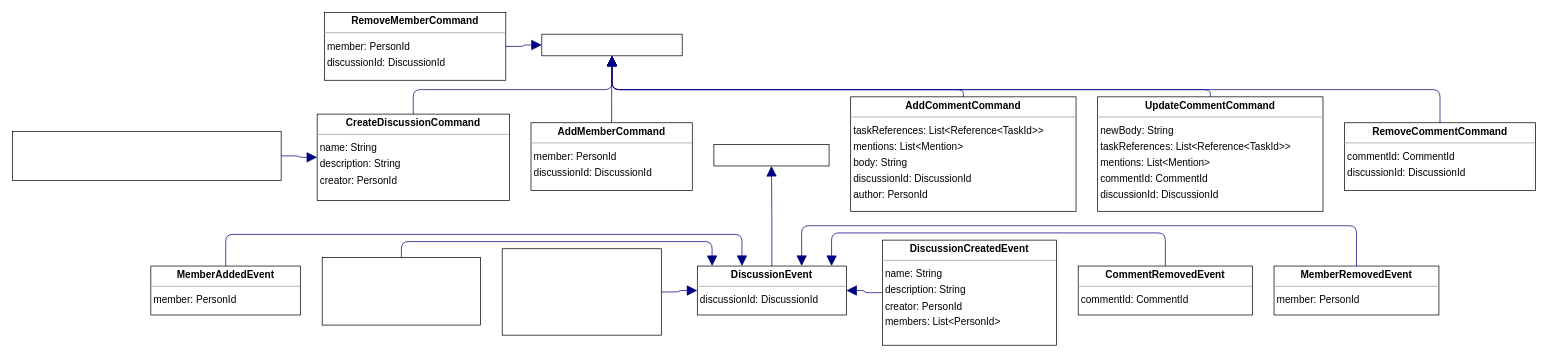
Some shapes in this 1548 by 358 pixel diagram are drawn without their labels. The shapes that lost their labels are listed below. From the top down, each one's box as (x1, y1, x2, y2) in pixels, then its label:
(541, 33, 682, 56): AbstractCommand
(12, 131, 281, 180): CreateDiscussionWithMembersCommand members: List<PersonId>
(713, 144, 829, 166): AbstractEvent
(321, 257, 481, 325): CommentEditedEvent newBody: String commentId: CommentId
(501, 248, 661, 335): CommentAddedEvent body: String commentId: CommentId author: PersonId
